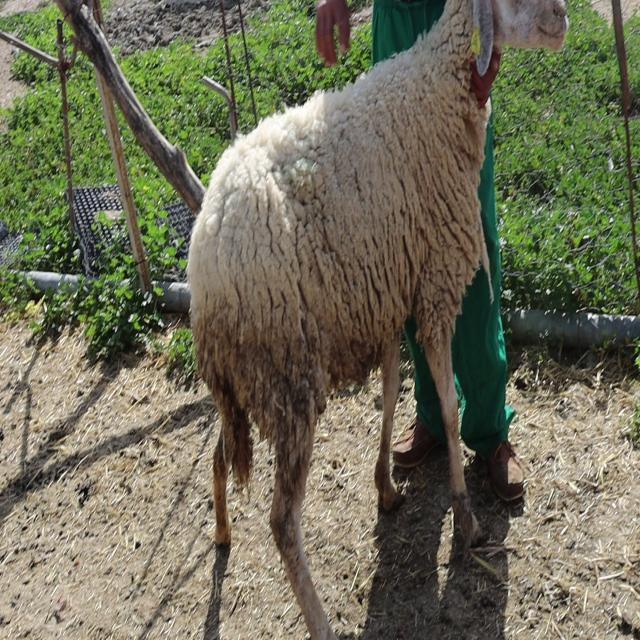Score_2: (187, 0, 566, 639)
